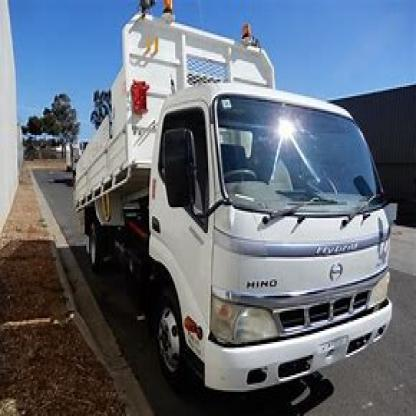dump_truck: (63, 0, 397, 396)
